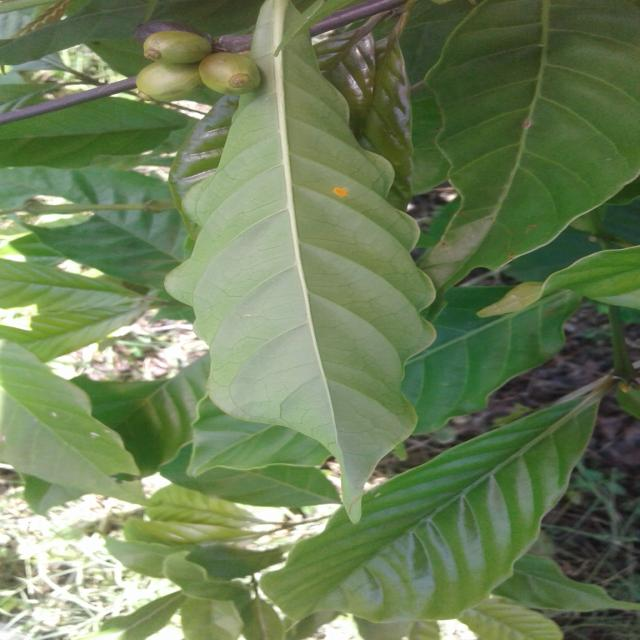Enfermedad-Roya: (163, 0, 438, 524)
